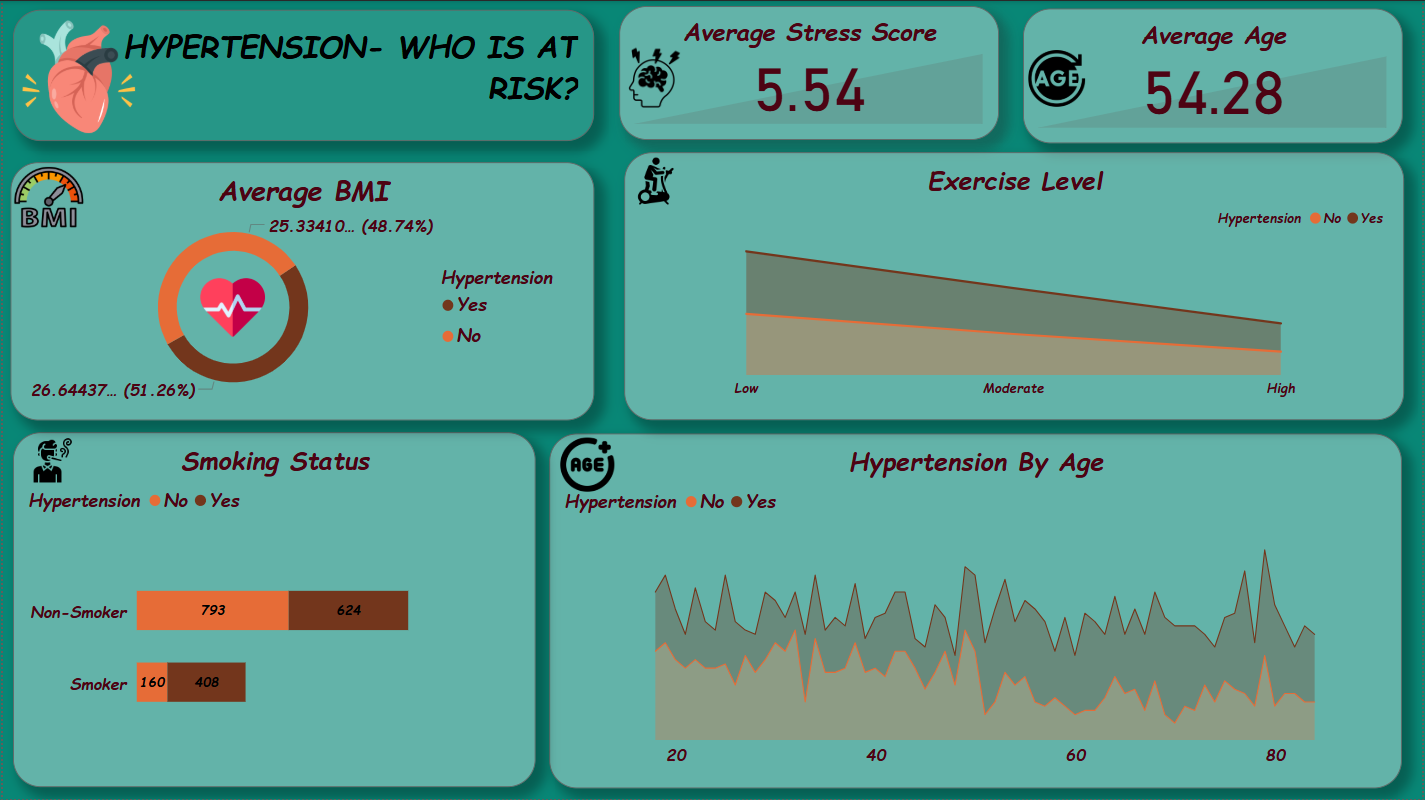

Layout of this report page (visuals, bound fields, positions):
{"tool":"powerbi","page":{"name":"Dashbord","canvas":[1280,720],"ordinal":0},"visuals":[{"type":"kpi","title":"Average Stress Score","fields":{"TrendLine":["hypertension_dataset.Hypertension Status"],"Indicator":["Avg(hypertension_dataset.Stress_Score)"]},"box":[556,5,342.1,120.7],"z":0},{"type":"kpi","title":"Average Age","fields":{"Indicator":["Avg(hypertension_dataset.Age)"],"TrendLine":["hypertension_dataset.Has_Hypertension"]},"box":[919.3,6.2,342.1,121.9],"z":1000},{"type":"stackedAreaChart","title":"Hypertension By Age","fields":{"Category":["hypertension_dataset.Age"],"Y":["CountNonNull(hypertension_dataset.Has_Hypertension)"],"Series":["hypertension_dataset.Hypertension Status"]},"box":[493,389.5,768.6,319.8],"z":2000},{"type":"barChart","title":"Smoking Status","fields":{"Category":["hypertension_dataset.Smoking_Status"],"Y":["CountNonNull(hypertension_dataset.Has_Hypertension)"],"Series":["hypertension_dataset.Has_Hypertension"]},"box":[8.7,389.4,471.5,319.7],"z":3000},{"type":"donutChart","title":"Average BMI","fields":{"Category":["hypertension_dataset.Hypertension Status"],"Y":["Avg(hypertension_dataset.BMI)"]},"box":[6.2,145.5,526.2,232.6],"z":4000},{"type":"stackedAreaChart","title":"Exercise Level","fields":{"Y":["CountNonNull(hypertension_dataset.Has_Hypertension)"],"Category":["hypertension_dataset.Exercise_Level"],"Series":["hypertension_dataset.Has_Hypertension"]},"box":[559.8,136.8,702.8,241.3],"z":5000},{"type":"textbox","box":[8.7,7.5,523.7,118.2],"z":6000},{"type":"image","box":[0,0,136.8,136.8],"z":7000},{"type":"image","box":[554.8,31.1,65.9,74.6],"z":8000},{"type":"image","box":[919.7,33.8,60.9,72.1],"z":9000},{"type":"image","box":[169.2,242.6,75.9,68.4],"z":10000},{"type":"image","box":[493.7,388.9,66.5,58.6],"z":11000},{"type":"image","box":[0,389.4,85.8,52.2],"z":12000},{"type":"image","box":[546.1,136.8,83.3,52.2],"z":13000},{"type":"image","box":[0,128.1,82.1,95.8],"z":14000}]}

Visuals, with their boxes in screenshot pixels (x1, y1, x2, y2), scaled from the page's 1280x720 canvas onto the 1425x800 screenshot:
"Average Stress Score" kpi: <bbox>619, 6, 1000, 140</bbox>
"Average Age" kpi: <bbox>1023, 7, 1404, 142</bbox>
"Hypertension By Age" stackedAreaChart: <bbox>549, 433, 1405, 788</bbox>
"Smoking Status" barChart: <bbox>10, 433, 535, 788</bbox>
"Average BMI" donutChart: <bbox>7, 162, 593, 420</bbox>
"Exercise Level" stackedAreaChart: <bbox>623, 152, 1406, 420</bbox>
textbox: <bbox>10, 8, 593, 140</bbox>
image: <bbox>0, 0, 152, 152</bbox>
image: <bbox>618, 35, 691, 117</bbox>
image: <bbox>1024, 38, 1092, 118</bbox>
image: <bbox>188, 270, 273, 346</bbox>
image: <bbox>550, 432, 624, 497</bbox>
image: <bbox>0, 433, 96, 491</bbox>
image: <bbox>608, 152, 701, 210</bbox>
image: <bbox>0, 142, 91, 249</bbox>
